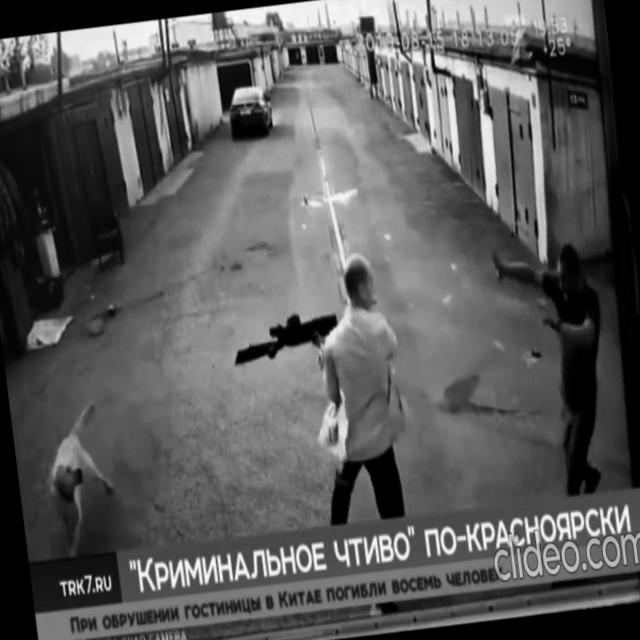gun: (228, 306, 342, 368)
person: (488, 229, 624, 502)
person with a gun: (222, 248, 420, 536)
